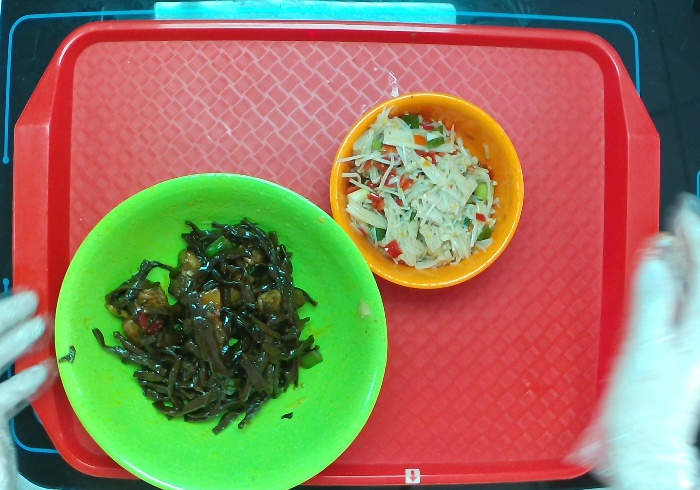YKMZ-Ju_Se_Yuan_Wan: (326, 90, 527, 291)
YKMZ-Lv_Se_Tang_Wan: (48, 169, 389, 490)
